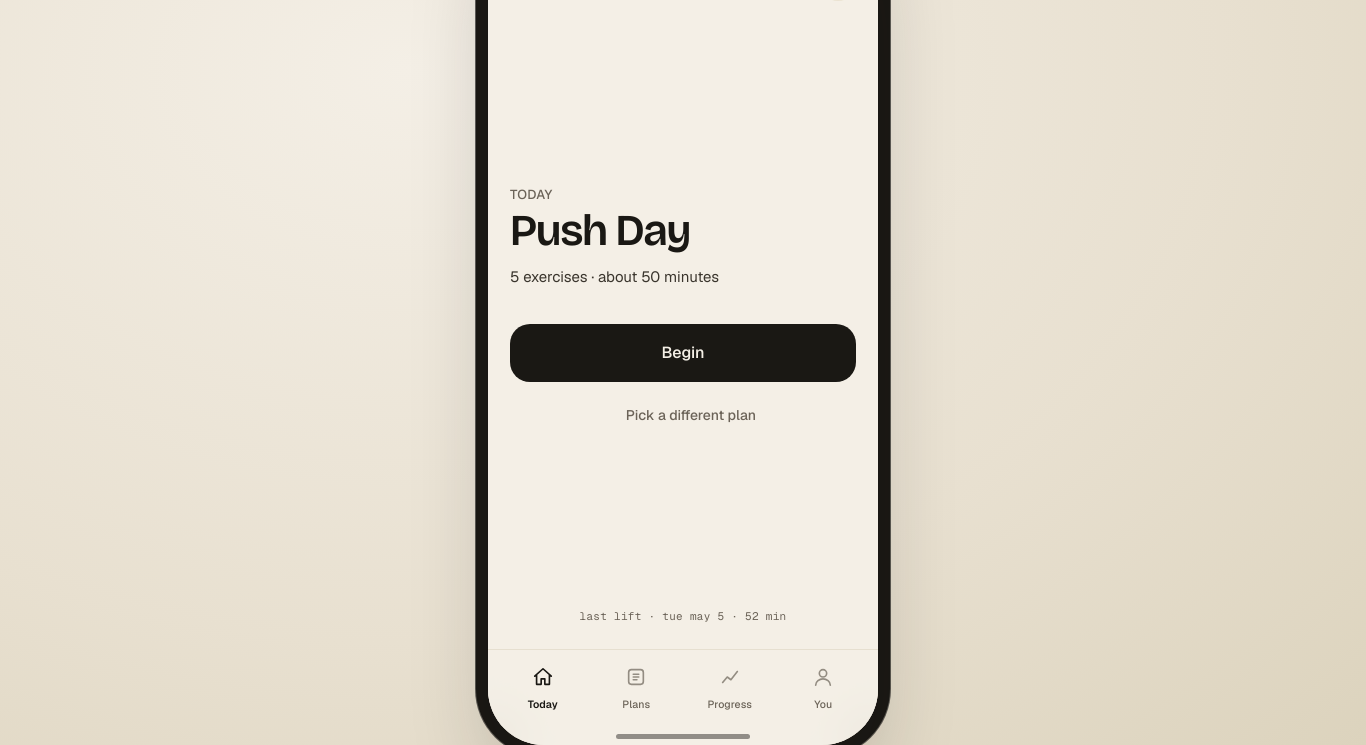
App › should navigate to Profile page when You tab is clicked
(page scrolled)
Click the button "You" at (823, 688), box [776, 658, 870, 719]
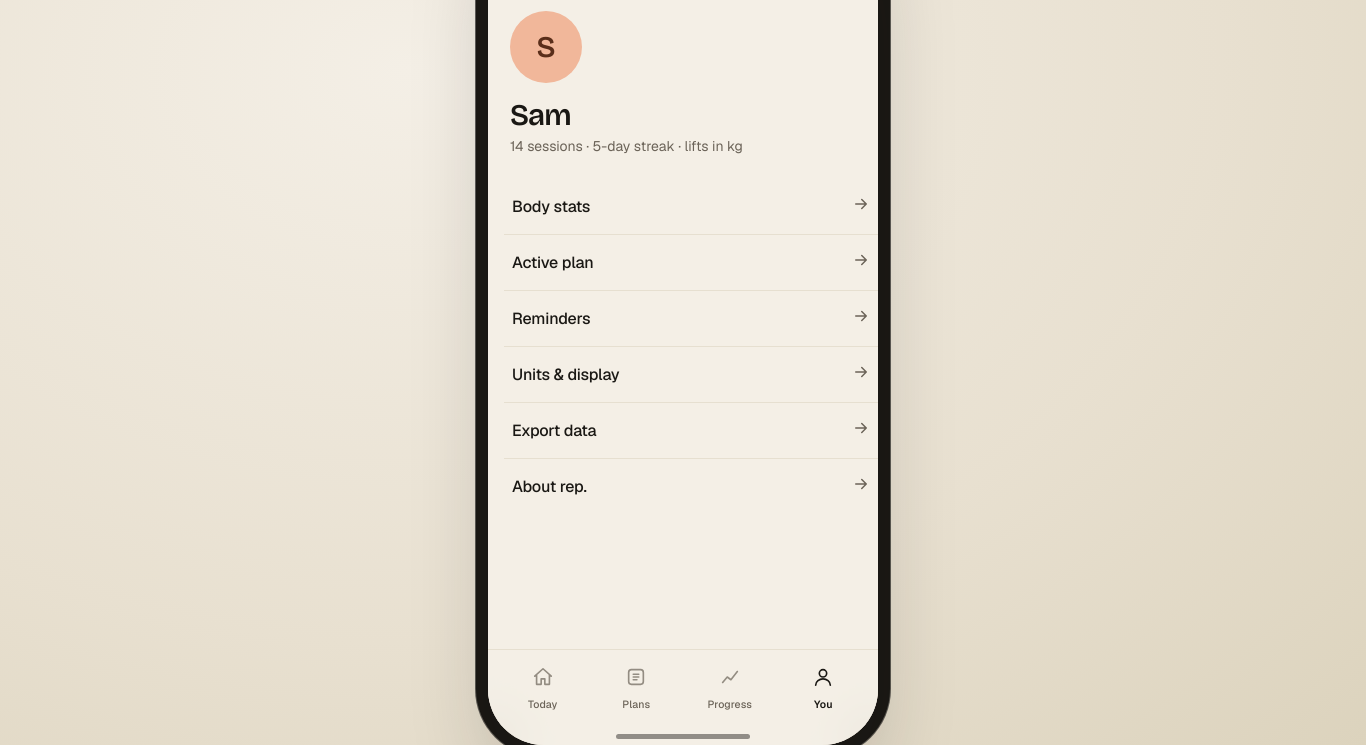
Now the text "Body stats" is shown, box [512, 196, 590, 217]
